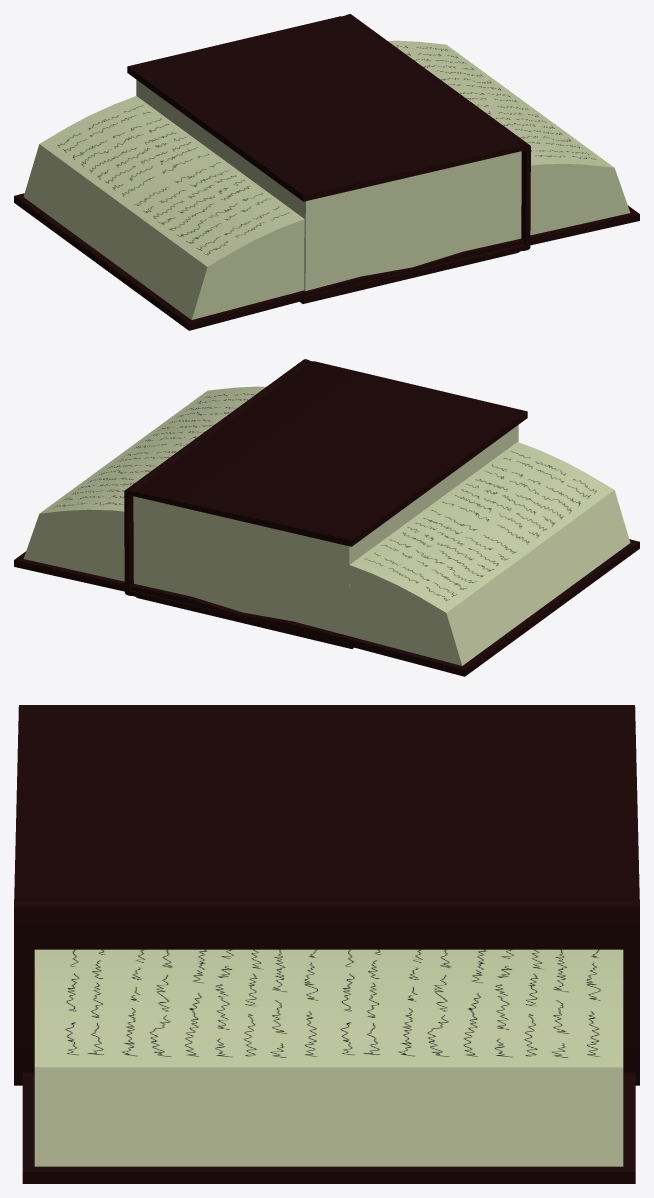
Rendered from Paper.fbx.
3 renders of one model, top to bottom at view 1: azimuth 30°, elevation 25°; view 2: azimuth 150°, elevation 25°; view 3: azimuth 270°, elevation 25°, orthographic. The views are drawn at different scales.
Parts seen in each view (by area): view 1: Book03A, OpenBook03A; view 2: Book03A, OpenBook03A; view 3: Book03A, OpenBook03A.
Boxes of the visible parts, x1,y1,x2,y2 form: Book03A: (127,14,530,303); OpenBook03A: (14,40,639,330); Book03A: (124,359,527,648); OpenBook03A: (14,386,639,676); Book03A: (14,705,639,1085); OpenBook03A: (22,949,635,1183).
Bounding box in the file's own units: 0.5915 × 0.1364 × 0.4064.
